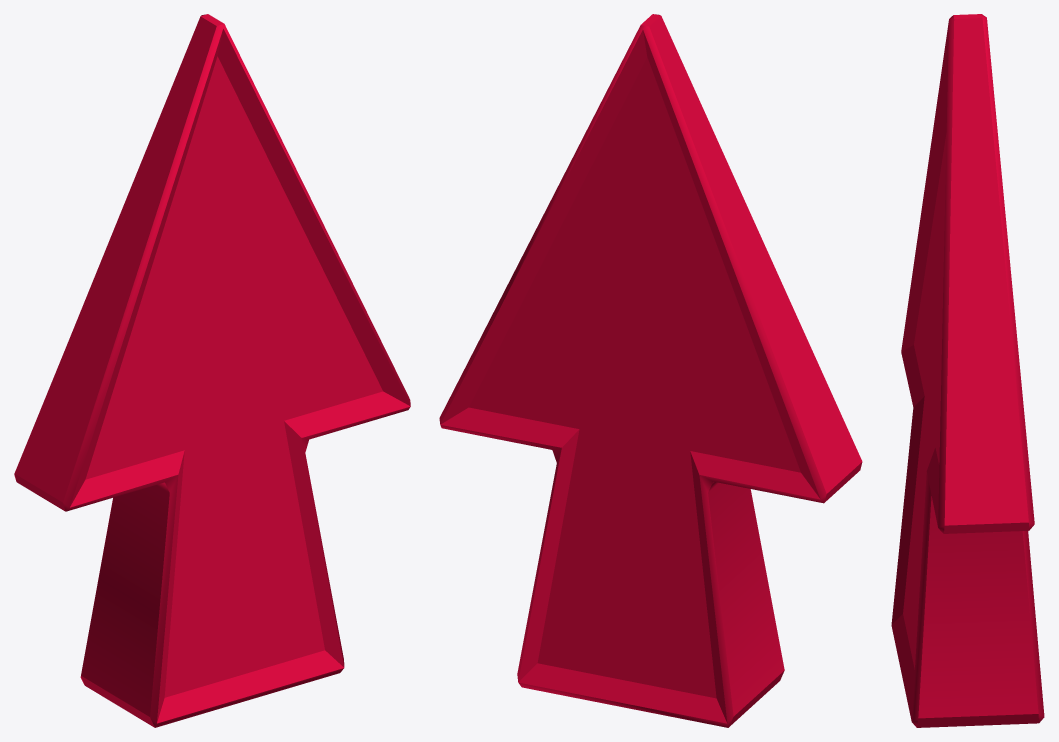
The model's file is APIIIISETA.dae.
3 views of the same model, side by side, from view 1: azimuth 30°, elevation 25°; view 2: azimuth 150°, elevation 25°; view 3: azimuth 270°, elevation 25° (orthographic).
Parts seen in each view (by area): view 1: node_id31; view 2: node_id31; view 3: node_id31.
Boxes of the visible parts, left/top/right/bottom form: node_id31: left=14, top=14, right=410, bottom=727; node_id31: left=439, top=14, right=862, bottom=727; node_id31: left=891, top=14, right=1044, bottom=727.
Bounding box in the file's own units: 0.6883 × 0.2442 × 1.16.
